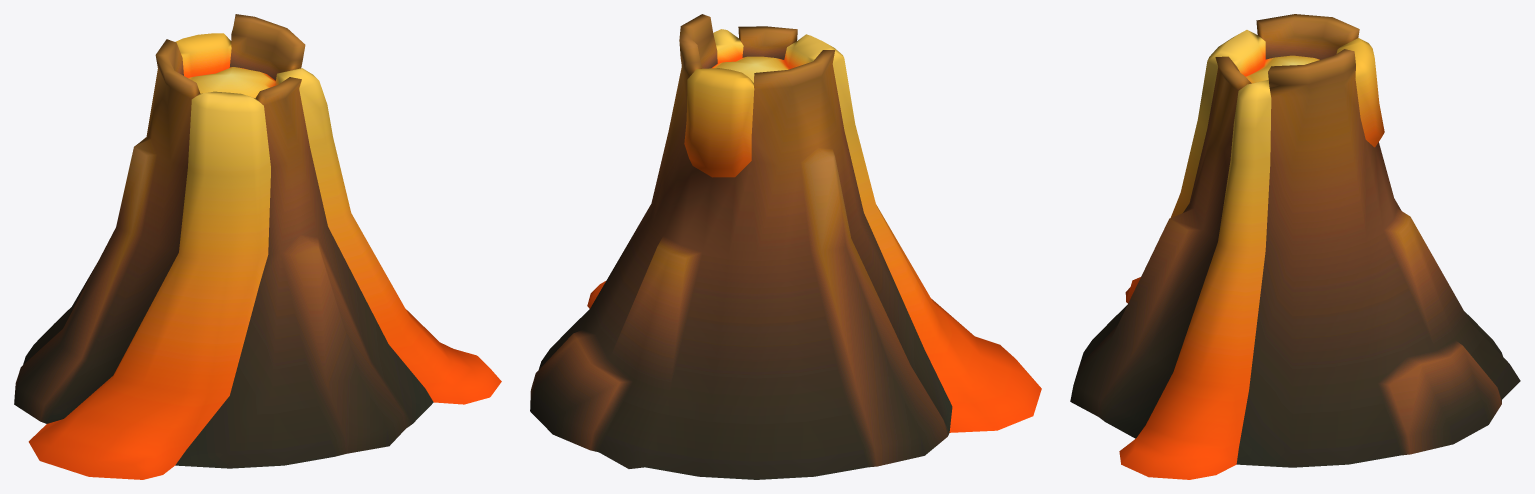
The model's file is m_Volcano02_B.fbx.
3 views of the same model, side by side, from view 1: azimuth 30°, elevation 25°; view 2: azimuth 150°, elevation 25°; view 3: azimuth 270°, elevation 25° (orthographic). The views are drawn at different scales.
Visible parts, largest first — view 1: m_Volcano02_B; view 2: m_Volcano02_B; view 3: m_Volcano02_B.
Boxes of the visible parts, bbox=[...] form: m_Volcano02_B: bbox=[14, 14, 501, 479]; m_Volcano02_B: bbox=[530, 14, 1041, 479]; m_Volcano02_B: bbox=[1070, 14, 1520, 479].
Bounding box in the file's own units: 2844 × 2097 × 2497.
